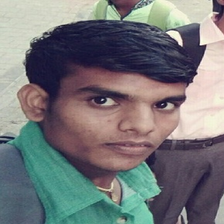no_mask: (49, 60, 180, 170)
